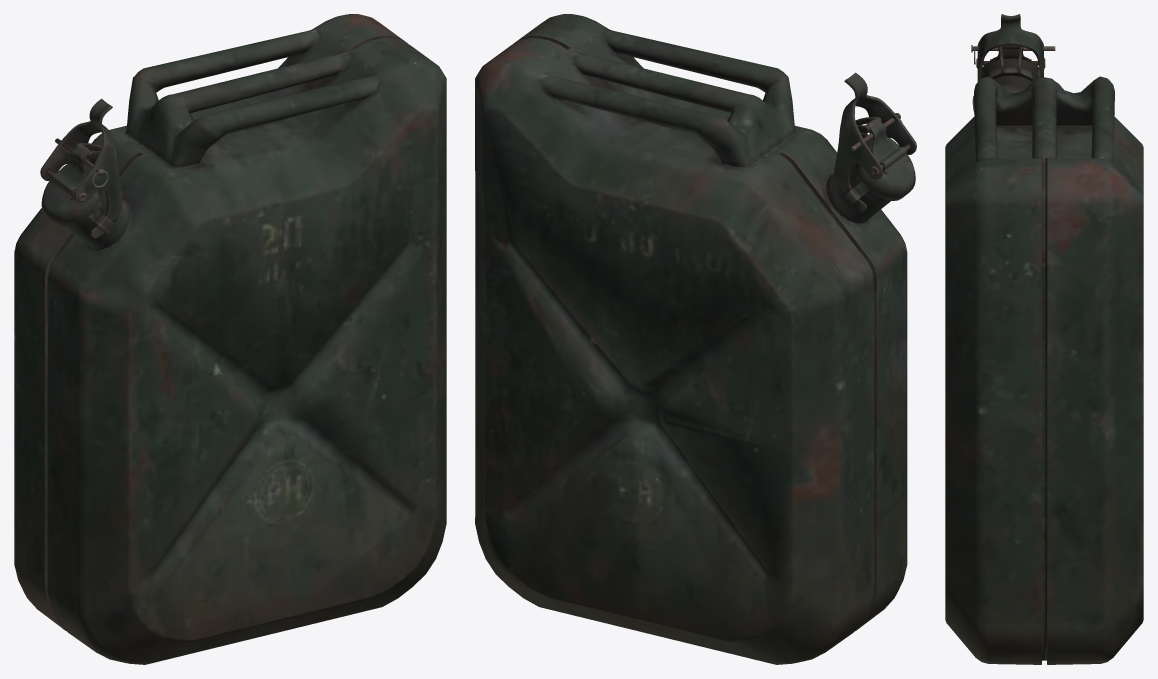
The model's file is metal_jerrycan_green.glb.
The picture shows the model from 3 angles, left to right: view 1: azimuth 30°, elevation 25°; view 2: azimuth 150°, elevation 25°; view 3: azimuth 270°, elevation 25°; orthographic projection. The views are drawn at different scales.
Visible parts, largest first — view 1: metal_jerrycan_green_body, metal_jerrycan_green_latch, metal_jerrycan_green_cap; view 2: metal_jerrycan_green_body, metal_jerrycan_green_latch, metal_jerrycan_green_cap; view 3: metal_jerrycan_green_body, metal_jerrycan_green_latch, metal_jerrycan_green_cap, metal_jerrycan_green_fastener.
Boxes of the visible parts, <box> form: metal_jerrycan_green_body: <box>14,14,446,664</box>; metal_jerrycan_green_latch: <box>40,98,122,238</box>; metal_jerrycan_green_cap: <box>41,144,101,227</box>; metal_jerrycan_green_body: <box>475,14,907,664</box>; metal_jerrycan_green_latch: <box>834,72,916,212</box>; metal_jerrycan_green_cap: <box>855,118,915,200</box>; metal_jerrycan_green_body: <box>945,75,1143,664</box>; metal_jerrycan_green_latch: <box>976,14,1045,81</box>; metal_jerrycan_green_cap: <box>980,45,1040,79</box>; metal_jerrycan_green_fastener: <box>989,46,1032,81</box>.
Size of the model in its own units: 0.3604 by 0.4999 by 0.1709.
Materials: 1 (1 with a texture image).
